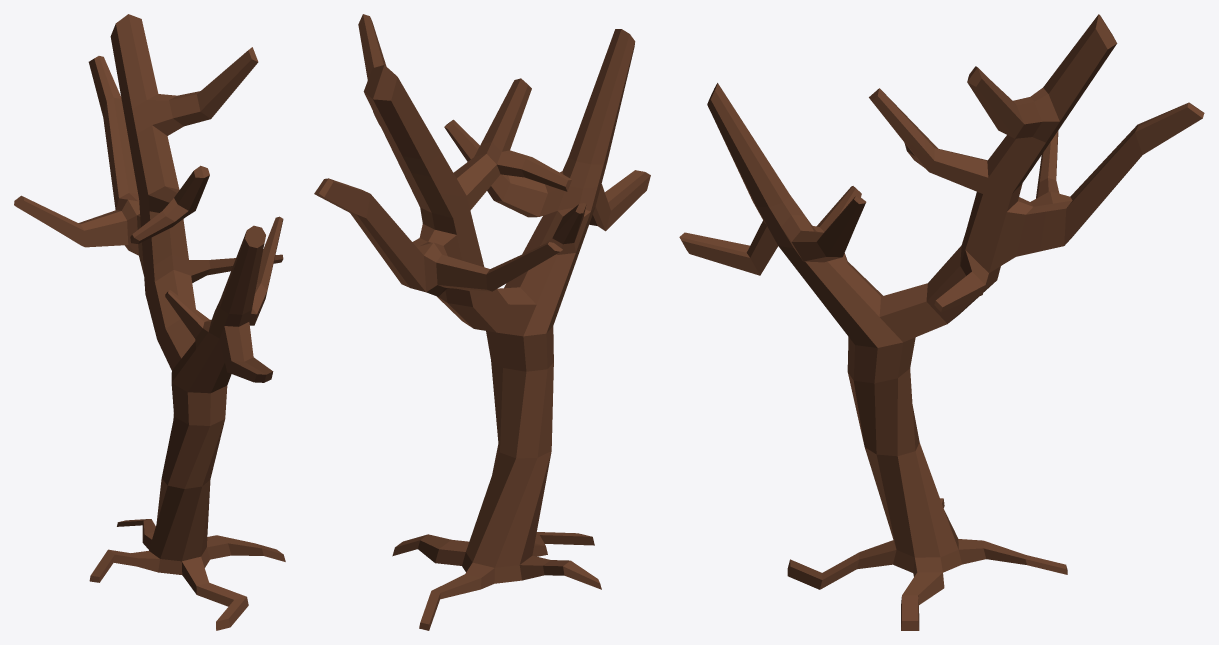
File: dead_tree.glb
3 views of the same model, side by side, from view 1: azimuth 30°, elevation 25°; view 2: azimuth 150°, elevation 25°; view 3: azimuth 270°, elevation 25° (orthographic). The views are drawn at different scales.
Visible parts, largest first — view 1: dead4; view 2: dead4; view 3: dead4.
Part boxes in pixels (x1,y1,x2,y2): dead4: (14,14,285,630); dead4: (314,14,650,630); dead4: (679,14,1204,630).
Bounding box in the file's own units: 3.52 × 7.8 × 6.39.
